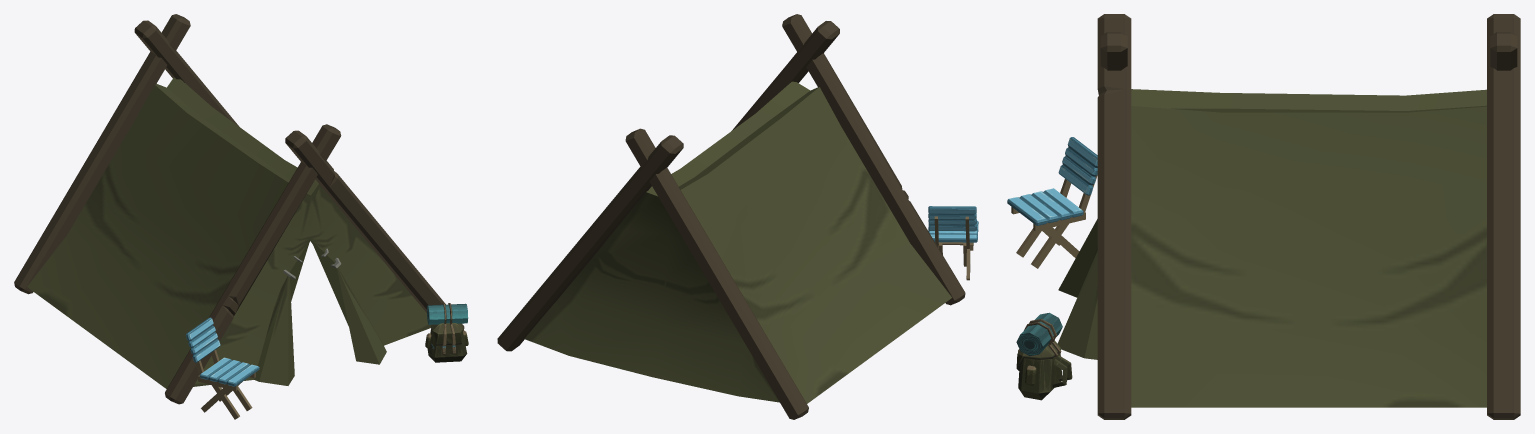
The model's file is camping_set_final.glb.
3 renders of one model, left to right at view 1: azimuth 30°, elevation 25°; view 2: azimuth 150°, elevation 25°; view 3: azimuth 270°, elevation 25°, orthographic. The views are drawn at different scales.
Visible parts, largest first — view 1: Tent_base, Posts, Door, Backpack_bag, Set, Back_set, Sleeping_bag, Right_legs; view 2: Tent_base, Posts, Back_set, Set; view 3: Tent_base, Posts, Door, Backpack_bag, Set, Back_set, Sleeping_bag, Left_legs.
Part boxes in pixels (x1,y1,x2,y2): Tent_base: [27, 77, 431, 388]; Posts: [14, 14, 464, 404]; Door: [254, 240, 386, 385]; Backpack_bag: [425, 323, 468, 362]; Set: [199, 357, 259, 386]; Back_set: [185, 317, 220, 362]; Sleeping_bag: [427, 303, 468, 324]; Right_legs: [201, 385, 239, 419]; Tent_base: [524, 81, 951, 403]; Posts: [497, 14, 965, 419]; Back_set: [928, 206, 976, 231]; Set: [928, 220, 978, 242]; Tent_base: [1131, 89, 1486, 407]; Posts: [1097, 14, 1520, 419]; Door: [1057, 219, 1097, 359]; Backpack_bag: [1016, 340, 1061, 400]; Set: [1007, 188, 1083, 225]; Back_set: [1058, 137, 1097, 195]; Sleeping_bag: [1016, 312, 1062, 355]; Left_legs: [1031, 223, 1079, 268].
Size of the model in its own units: 3.14 by 2.45 by 3.68.
3 materials, 3 textured.
